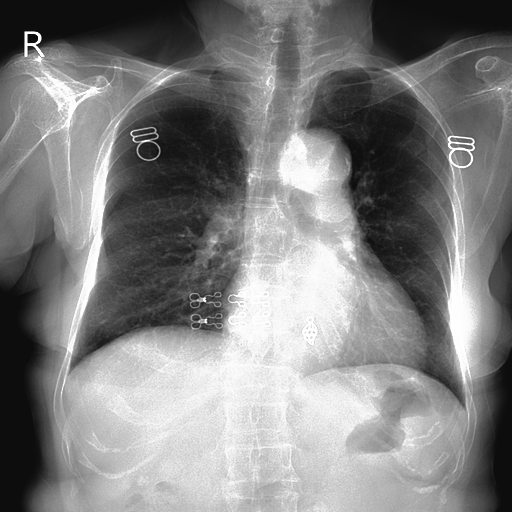Consolidation: (278, 128, 350, 187)
Nodule/Mass: (215, 279, 426, 370)
